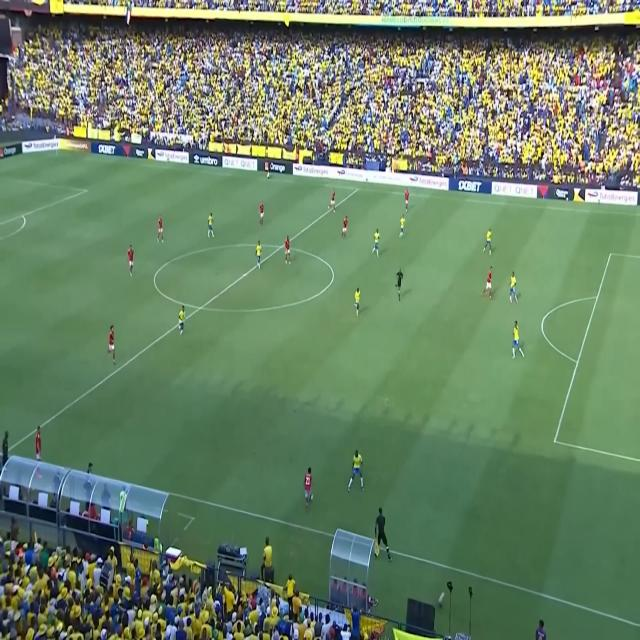Ball: (309, 493, 314, 502)
Player: (347, 445, 365, 492), (106, 322, 119, 368), (35, 425, 44, 479), (512, 320, 524, 358), (481, 265, 494, 299), (176, 301, 187, 337), (253, 238, 265, 271), (126, 243, 136, 275), (509, 272, 519, 304), (371, 230, 382, 259), (304, 461, 311, 506), (206, 212, 217, 240), (157, 213, 166, 246), (327, 188, 338, 215), (483, 228, 493, 256), (284, 234, 292, 265), (353, 286, 361, 316), (398, 215, 406, 241), (258, 200, 265, 227), (341, 215, 348, 236), (404, 188, 410, 208)
Ref: (374, 504, 394, 563), (395, 264, 403, 302)
